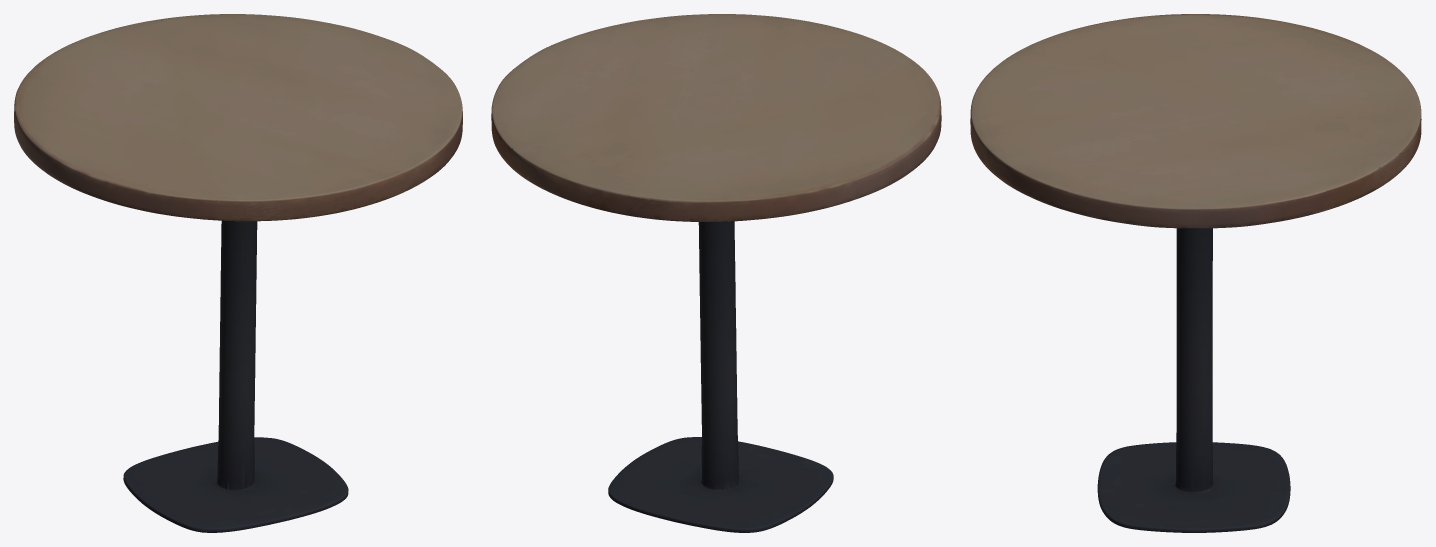
Rendered from cb_table_round.glb.
3 views of the same model, side by side, from view 1: azimuth 30°, elevation 25°; view 2: azimuth 150°, elevation 25°; view 3: azimuth 270°, elevation 25° (orthographic).
Visible parts, largest first — view 1: cb_table_round_t0; view 2: cb_table_round_t0; view 3: cb_table_round_t0.
Boxes of the visible parts, <box> form: cb_table_round_t0: <box>14,14,462,532</box>; cb_table_round_t0: <box>491,14,941,532</box>; cb_table_round_t0: <box>970,14,1421,532</box>.
Bounding box in the file's own units: 0.8 × 0.75 × 0.8001.
Materials: 1 (1 with a texture image).
